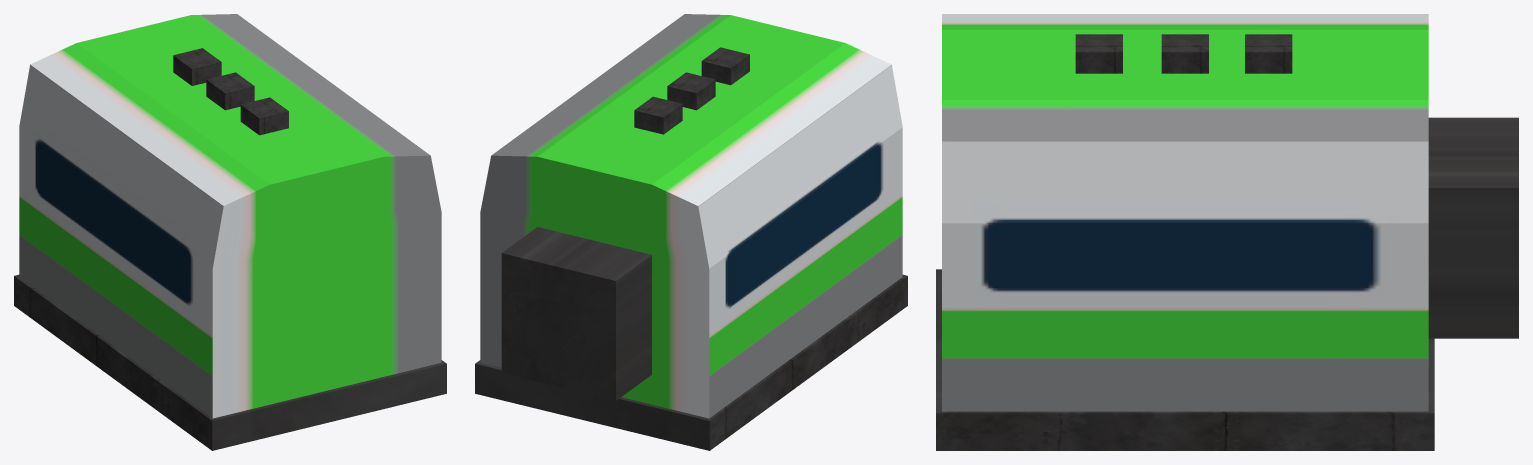
File: train-car_2.fbx
3 views of the same model, side by side, from view 1: azimuth 30°, elevation 25°; view 2: azimuth 150°, elevation 25°; view 3: azimuth 270°, elevation 25° (orthographic). The views are drawn at different scales.
Visible parts, largest first — view 1: Cube.063; view 2: Cube.063; view 3: Cube.063.
Boxes of the visible parts, box(x1,y1,x2,y2) form: Cube.063: box(14, 14, 446, 450); Cube.063: box(475, 14, 907, 450); Cube.063: box(936, 14, 1518, 450).
Size of the model in its own units: 205 by 223 by 351.
